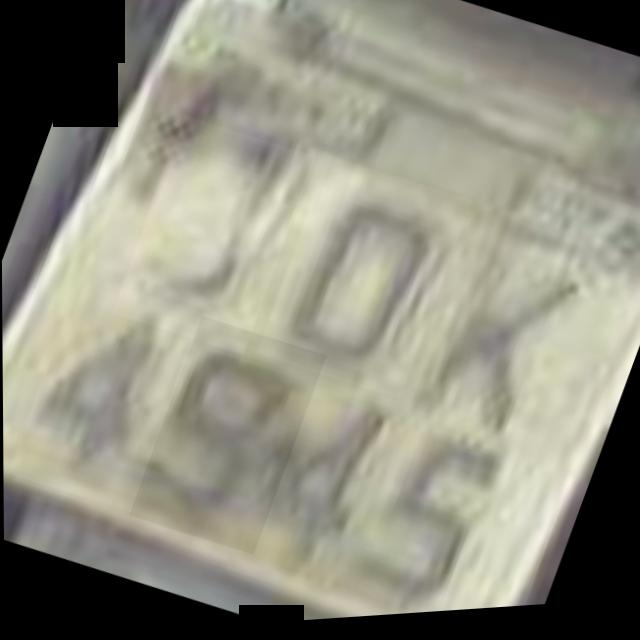4: (6, 269, 208, 521), (239, 354, 430, 603)
5: (347, 397, 544, 622)
9: (127, 313, 327, 565)
J: (110, 111, 317, 365)
O: (255, 153, 473, 412)
